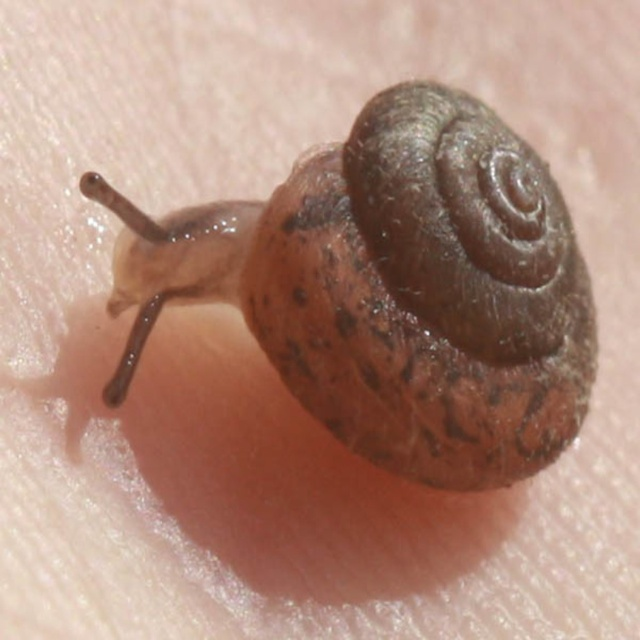Snail: (80, 72, 604, 495)
